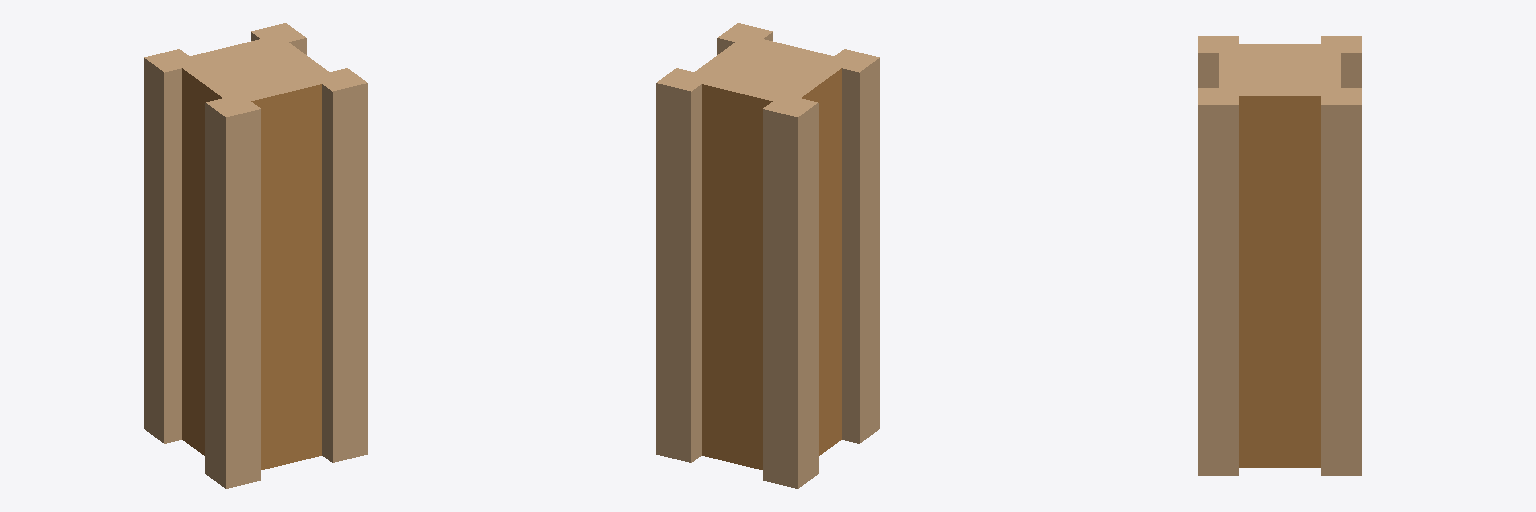
File: Puzzle_Sliding_Pillar.obj
3 views of the same model, side by side, from view 1: azimuth 30°, elevation 25°; view 2: azimuth 150°, elevation 25°; view 3: azimuth 270°, elevation 25° (orthographic).
Visible parts, largest first — view 1: object1; view 2: object1; view 3: object1.
Part boxes in pixels (x1,y1,x2,y2): object1: (144, 23, 367, 488); object1: (656, 23, 879, 488); object1: (1198, 36, 1361, 475).
Size of the model in its own units: 0.4 by 1 by 0.4.